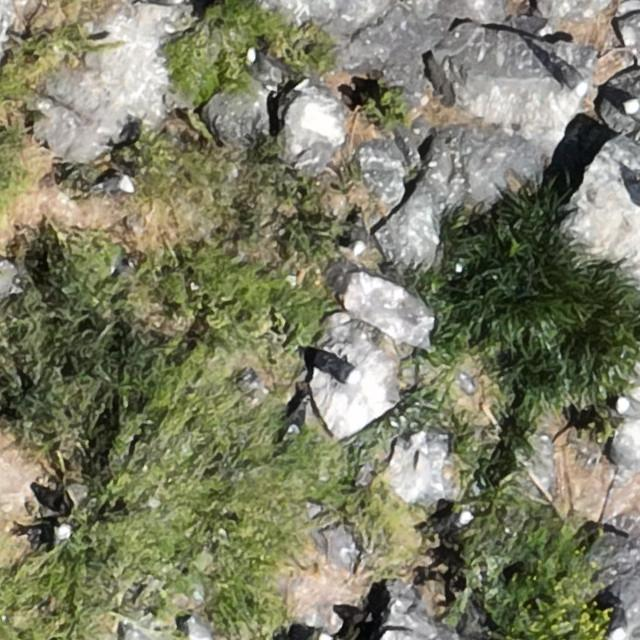umineko: (550, 49, 588, 97), (353, 213, 369, 257), (326, 363, 359, 383), (611, 601, 628, 639), (98, 175, 134, 192), (440, 512, 471, 530), (617, 399, 639, 419), (625, 98, 638, 117)
